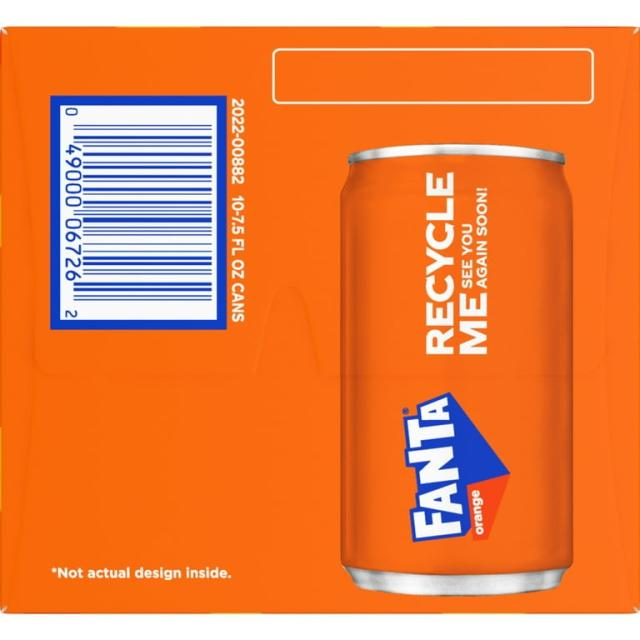fanta: (338, 142, 572, 594)
